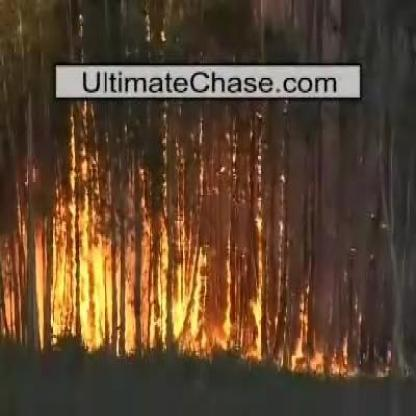foggia-v2-map80-epoch100 - v1 4323: (36, 226, 118, 343)
